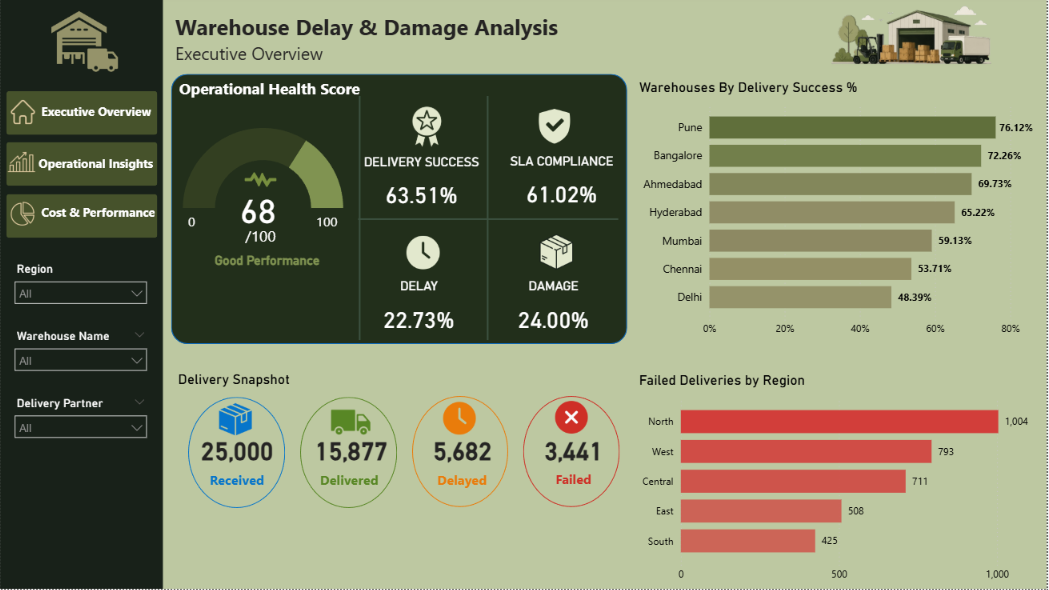

The page's visual inventory and layout, read from the dashboard file:
{"tool":"powerbi","page":{"name":"Executive Dashboard","canvas":[1280,720],"ordinal":0},"visuals":[{"type":"group","id":"g1","title":"Group 21","box":[0,0,199,720.2],"z":0},{"type":"shape","box":[0,0,199,720.2],"z":0,"group":"g1"},{"type":"group","id":"g2","title":"Group 8","box":[181,90.5,595.5,330.2],"z":0,"group":"g20"},{"type":"group","id":"g3","title":"Group 1","box":[181,127,281.3,255.1],"z":0,"group":"g19"},{"type":"group","id":"g4","title":"Group 17","box":[7.3,173.6,185,53.8],"z":0,"group":"g10"},{"type":"shape","box":[7.3,237.2,185,53.8],"z":0,"group":"g18"},{"type":"shape","box":[208.9,90.5,557.5,330.2],"z":1000,"group":"g2"},{"type":"textbox","box":[213.9,90.5,310.4,74.4],"z":1000,"group":"g19"},{"type":"barChart","title":"Warehouses By Delivery Success %","fields":{"Category":["Dim_Warehouse.warehouse_name"],"Y":["Fact_Warehouse_Operations.Delivery Success %"]},"box":[776.5,96.6,503.8,324.1],"z":1000},{"type":"shape","box":[7.3,111.3,185,53.8],"z":1000,"group":"g8"},{"type":"image","box":[279.3,194.7,79.8,50.4],"z":1000,"group":"g20"},{"type":"textbox","box":[14.6,244.5,179.8,33],"z":1000,"group":"g18"},{"type":"slicer","fields":{"Values":["Fact_Warehouse_Operations.region"]},"box":[7.2,316.1,182.2,68.8],"z":1000,"group":"g1"},{"type":"group","id":"g5","title":"Group 2","box":[405.3,117,351,298.7],"z":2000,"group":"g19"},{"type":"textbox","box":[11,121.1,178.5,35.5],"z":2000,"group":"g8"},{"type":"barChart","title":"Failed Deliveries by Region","fields":{"Category":["Fact_Warehouse_Operations.region"],"Y":["Fact_Warehouse_Operations.Failed Shipments"]},"box":[776.5,454.9,503.8,265.4],"z":2000},{"type":"slicer","fields":{"Values":["Fact_Warehouse_Operations.delivery_partner"]},"box":[7.2,479,182.2,68.8],"z":2000,"group":"g1"},{"type":"textbox","box":[208.7,9.7,546.5,86.9],"z":3000},{"type":"group","id":"g6","title":"Group 3","box":[434.4,117,162.2,150],"z":3000,"group":"g19"},{"type":"slicer","fields":{"Values":["Fact_Warehouse_Operations.warehouse_name"]},"box":[7.2,396.9,182.2,68.8],"z":3000,"group":"g1"},{"type":"group","id":"g7","title":"Group 9","box":[181,90.5,595.5,330.2],"z":4000},{"type":"group","id":"g8","title":"Group 16","box":[7.3,111.3,185,53.8],"z":4000,"group":"g1"},{"type":"shape","box":[405.3,117,69.7,298.7],"z":4000,"group":"g5"},{"type":"group","id":"g9","title":"Group 4","box":[596.6,123.3,179.9,143.7],"z":4000,"group":"g19"},{"type":"shape","box":[229.9,485.5,118.6,135.7],"z":4000,"group":"g12"},{"type":"group","id":"g10","title":"Group 19","box":[7.3,173.6,185,53.8],"z":5000,"group":"g1"},{"type":"card","title":"DELIVERY SUCCESS","fields":{"Values":["Fact_Warehouse_Operations.Delivery Success %"]},"box":[434.4,188.8,162.2,78.1],"z":5000,"group":"g6"},{"type":"group","id":"g11","title":"Group 5","box":[431.9,283.3,160.9,137.4],"z":5000,"group":"g19"},{"type":"group","id":"g12","title":"Group 12","box":[229.9,443.9,118.6,177.3],"z":5000},{"type":"shape","box":[503.8,484.3,117.4,135.7],"z":5000,"group":"g16"},{"type":"card","title":"SLA COMPLIANCE","fields":{"Values":["Fact_Warehouse_Operations.SLA Compilance %"]},"box":[596.6,187.6,179.9,79.4],"z":6000,"group":"g9"},{"type":"group","id":"g13","title":"Group 20","box":[7.3,237.2,187.1,53.8],"z":6000,"group":"g1"},{"type":"group","id":"g14","title":"Group 6","box":[596.6,280.8,159.6,139.9],"z":6000,"group":"g19"},{"type":"group","id":"g15","title":"Group 13","box":[366.8,442.7,122.3,178.5],"z":6000},{"type":"shape","box":[366.8,485.5,118.6,135.7],"z":6000,"group":"g15"},{"type":"image","box":[43.4,2.4,115.8,94.1],"z":7000,"group":"g1"},{"type":"card","title":"DELAY","fields":{"Values":["Fact_Warehouse_Operations.Delay %"]},"box":[431.9,341.3,160.9,79.4],"z":7000,"group":"g11"},{"type":"group","id":"g16","title":"Group 14","box":[503.8,442.7,117.4,177.3],"z":7000},{"type":"shape","box":[639.5,484.2,118,135.7],"z":7000,"group":"g17"},{"type":"card","title":"DAMAGE","fields":{"Values":["Fact_Warehouse_Operations.Damage %"]},"box":[596.6,341.3,159.6,79.4],"z":8000,"group":"g14"},{"type":"group","id":"g17","title":"Group 15","box":[639.5,441.4,118,178.5],"z":8000},{"type":"card","fields":{"Values":["Fact_Warehouse_Operations.Total Shipments"]},"box":[232.3,523.4,114.9,75.8],"z":8000,"group":"g12"},{"type":"image","box":[947.4,0,332.6,91.7],"z":9000},{"type":"card","fields":{"Values":["Fact_Warehouse_Operations.Delivered Shipments"]},"box":[369.2,511.2,119.8,100.3],"z":9000,"group":"g15"},{"type":"image","box":[2.4,173.7,47.1,49.5],"z":10000},{"type":"card","fields":{"Values":["Fact_Warehouse_Operations.Delayed Shipments"]},"box":[517.3,518.5,95.4,85.6],"z":10000,"group":"g16"},{"type":"donutChart","fields":{"Y":["Fact_Warehouse_Operations.Overall Performance Score","Fact_Warehouse_Operations.Remaining Performance","Fact_Warehouse_Operations.Gauge Max"]},"box":[181,127,281.3,255.1],"z":11000,"group":"g3"},{"type":"shape","box":[7.3,173.6,185,53.8],"z":11000,"group":"g4"},{"type":"actionButton","box":[7.2,179.8,182.2,39.8],"z":11000},{"type":"card","fields":{"Values":["Fact_Warehouse_Operations.Failed Shipments"]},"box":[657.8,511.1,86.8,99],"z":11000,"group":"g17"},{"type":"textbox","box":[13.4,184.6,178.5,35.5],"z":12000,"group":"g4"},{"type":"image","box":[7.2,242.5,39.8,38.6],"z":12000},{"type":"card","fields":{"Values":["Fact_Warehouse_Operations.Performance Status"]},"box":[249,276.9,154.6,83.2],"z":12000,"group":"g3"},{"type":"card","fields":{"Values":["Fact_Warehouse_Operations.Overall Performance Score"]},"box":[267.2,217.1,97.6,73.1],"z":13000,"group":"g3"},{"type":"actionButton","box":[10.9,243.7,178.6,39.8],"z":13000},{"type":"textbox","box":[225.1,254.5,26.2,32.9],"z":14000,"group":"g3"},{"type":"textbox","box":[212.8,448.8,165.1,34.2],"z":14000},{"type":"group","id":"g18","title":"Group 18","box":[7.3,237.2,187.1,53.8],"z":15000,"group":"g13"},{"type":"textbox","box":[381,254.5,49.6,37],"z":15000,"group":"g3"},{"type":"image","box":[262.9,443.9,50.1,138.2],"z":15000,"group":"g12"},{"type":"image","box":[399.8,442.7,57.5,148],"z":15001,"group":"g15"},{"type":"image","box":[536.8,442.7,50.1,138.2],"z":15002,"group":"g16"},{"type":"image","box":[673.7,441.4,50.1,138.2],"z":15003,"group":"g17"},{"type":"textbox","box":[295.1,270,83.6,45.4],"z":16000,"group":"g3"},{"type":"image","box":[7.3,117.4,40.4,39.1],"z":17005,"group":"g8"},{"type":"image","box":[482.5,117,79.8,75.6],"z":21000,"group":"g6"},{"type":"image","box":[651.1,123.3,51.9,61.7],"z":22000,"group":"g9"},{"type":"image","box":[490.2,283.3,53.2,50.4],"z":23000,"group":"g11"},{"type":"image","box":[651.1,280.8,57,54.2],"z":24000,"group":"g14"},{"type":"image","box":[286.5,191.3,63.4,60.5],"z":25000,"group":"g21"},{"type":"shape","box":[562.4,117,69.7,298.7],"z":26000,"group":"g5"},{"type":"shape","box":[438.2,241.8,318,51.7],"z":27000,"group":"g5"},{"type":"group","id":"g19","title":"Group 7","box":[181,90.5,595.5,330.2],"z":28006,"group":"g2"},{"type":"group","id":"g20","title":"Group 11","box":[181,90.5,595.5,330.2],"z":28009,"group":"g21"},{"type":"group","id":"g21","title":"Group 10","box":[181,90.5,595.5,330.2],"z":28509,"group":"g7"}]}

Visuals, with their boxes in screenshot pixels (x1, y1, x2, y2), scaled from the page's 1280x720 canvas onto the 1049x590 screenshot:
"Group 21" group: 0 0 163 589
shape: 0 0 163 589
"Group 8" group: 148 74 636 345
"Group 1" group: 148 104 379 313
"Group 17" group: 6 142 158 186
shape: 6 194 158 238
shape: 171 74 628 345
textbox: 175 74 430 135
"Warehouses By Delivery Success %" barChart: 636 79 1048 345
shape: 6 91 158 135
image: 229 160 294 201
textbox: 12 200 159 227
slicer - Fact_Warehouse_Operations.region: 6 259 155 315
"Group 2" group: 332 96 620 341
textbox: 9 99 155 128
"Failed Deliveries by Region" barChart: 636 373 1048 589
slicer - Fact_Warehouse_Operations.delivery_partner: 6 393 155 449
textbox: 171 8 619 79
"Group 3" group: 356 96 489 219
slicer - Fact_Warehouse_Operations.warehouse_name: 6 325 155 382
"Group 9" group: 148 74 636 345
"Group 16" group: 6 91 158 135
shape: 332 96 389 341
"Group 4" group: 489 101 636 219
shape: 188 398 286 509
"Group 19" group: 6 142 158 186
"DELIVERY SUCCESS" card: 356 155 489 219
"Group 5" group: 354 232 486 345
"Group 12" group: 188 364 286 509
shape: 413 397 509 508
"SLA COMPLIANCE" card: 489 154 636 219
"Group 20" group: 6 194 159 238
"Group 6" group: 489 230 620 345
"Group 13" group: 301 363 401 509
shape: 301 398 398 509
image: 36 2 130 79
"DELAY" card: 354 280 486 345
"Group 14" group: 413 363 509 508
shape: 524 397 621 508
"DAMAGE" card: 489 280 620 345
"Group 15" group: 524 362 621 508
card - Fact_Warehouse_Operations.Total Shipments: 190 429 285 491
image: 776 0 1048 75
card - Fact_Warehouse_Operations.Delivered Shipments: 303 419 401 501
image: 2 142 41 183
card - Fact_Warehouse_Operations.Delayed Shipments: 424 425 502 495
donutChart - Fact_Warehouse_Operations.Overall Performance Score x Fact_Warehouse_Operations.Remaining Performance: 148 104 379 313
shape: 6 142 158 186
actionButton: 6 147 155 180
card - Fact_Warehouse_Operations.Failed Shipments: 539 419 610 500
textbox: 11 151 157 180
image: 6 199 39 230
card - Fact_Warehouse_Operations.Performance Status: 204 227 331 295
card - Fact_Warehouse_Operations.Overall Performance Score: 219 178 299 238
actionButton: 9 200 155 232
textbox: 184 209 206 236
textbox: 174 368 310 396
"Group 18" group: 6 194 159 238
textbox: 312 209 353 239
image: 215 364 257 477
image: 328 363 375 484
image: 440 363 481 476
image: 552 362 593 475
textbox: 242 221 310 258
image: 6 96 39 128
image: 395 96 461 158
image: 534 101 576 152
image: 402 232 445 273
image: 534 230 580 275
image: 235 157 287 206
shape: 461 96 518 341
shape: 359 198 620 241
"Group 7" group: 148 74 636 345
"Group 11" group: 148 74 636 345
"Group 10" group: 148 74 636 345
